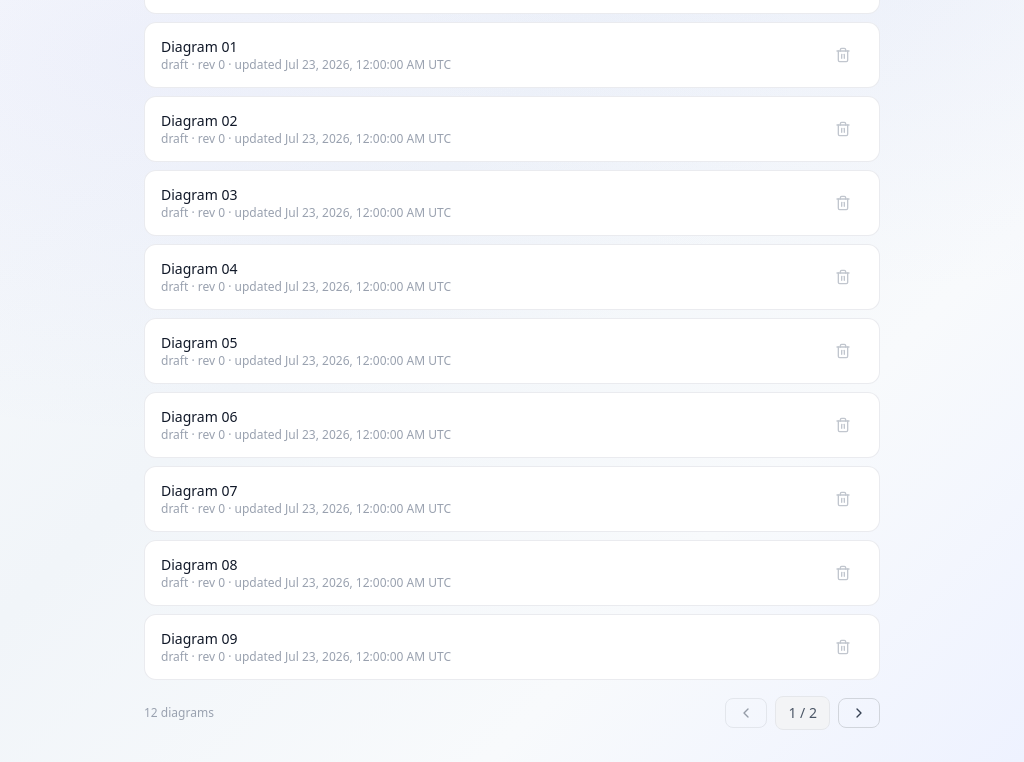
Scenario: DiagramsIndex › paginates past 10 rows with a working pager
(page scrolled)
Click the button named "Next page" at (859, 713), box [838, 698, 880, 728]
(page scrolled)
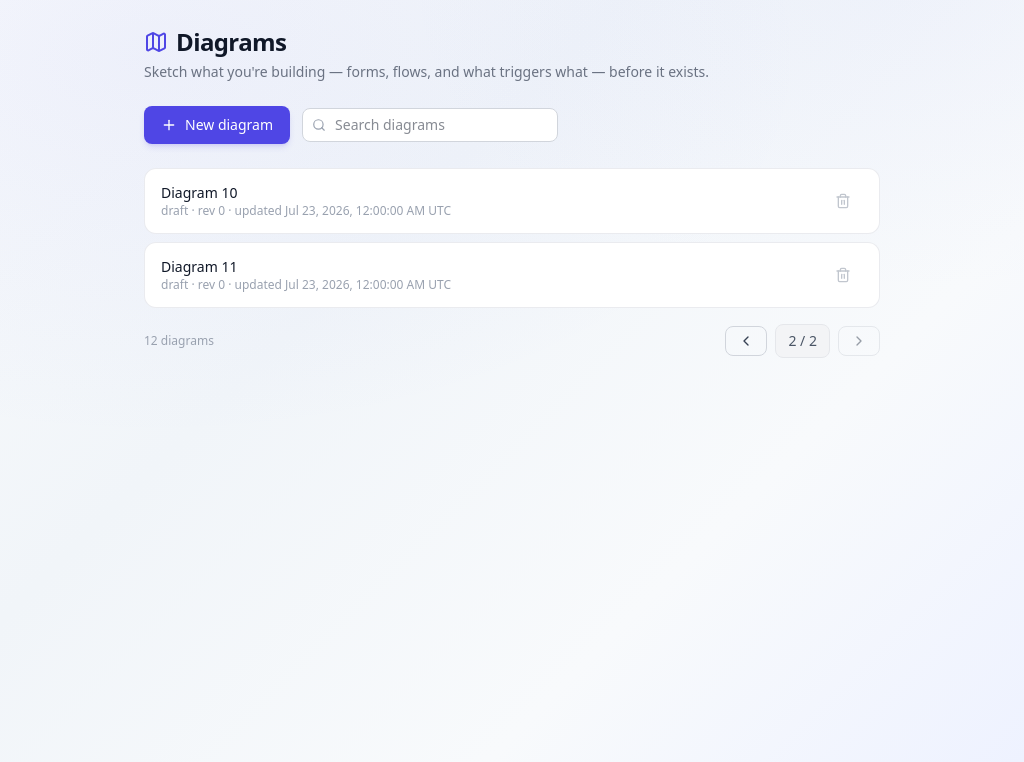
Expected: the button named "Next page" is disabled, [838, 326, 880, 356]
